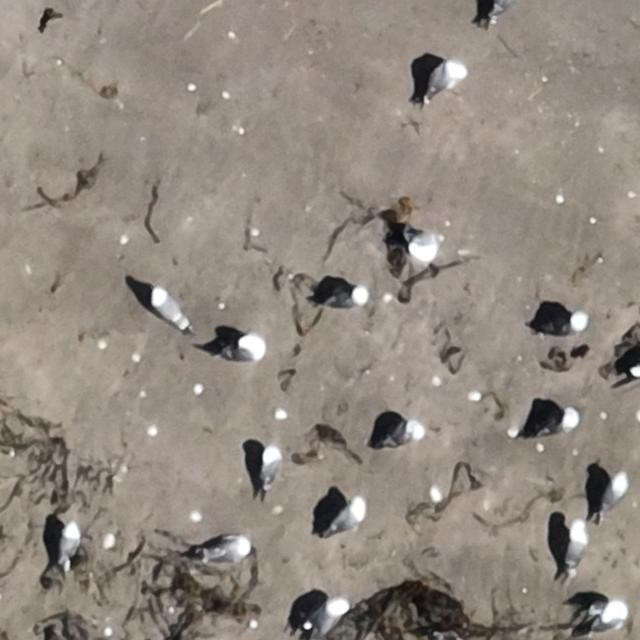umineko: (522, 405, 582, 443), (217, 332, 275, 368), (573, 602, 625, 636), (404, 234, 441, 278), (427, 60, 465, 101), (304, 601, 343, 632), (153, 290, 186, 325), (207, 538, 253, 561), (331, 500, 365, 531), (601, 477, 626, 513), (566, 528, 586, 570), (542, 314, 584, 334), (262, 448, 282, 488), (385, 424, 421, 446), (326, 289, 366, 308), (60, 525, 80, 562)
